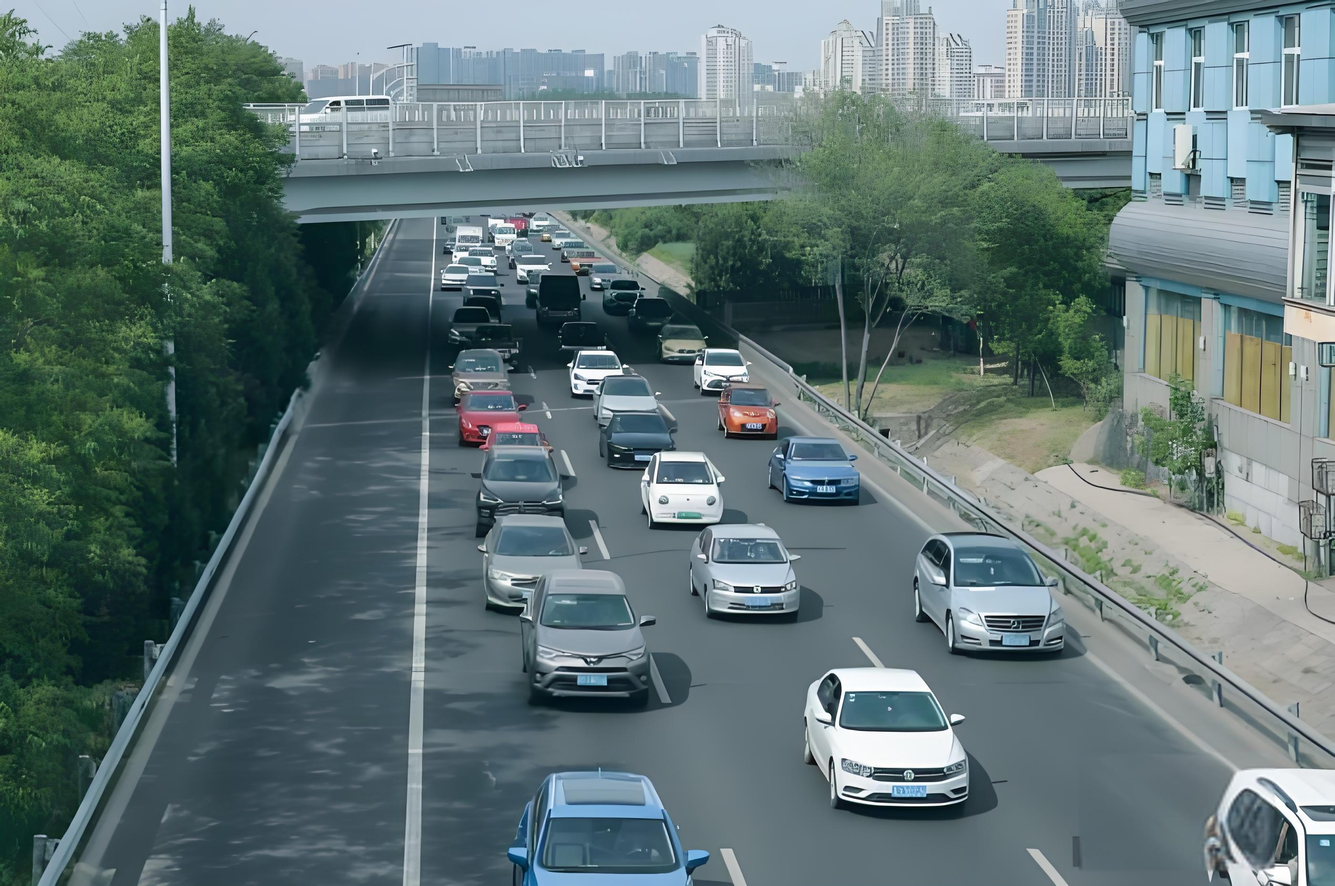car: (797, 664, 978, 810), (507, 765, 710, 886), (907, 519, 1076, 658), (517, 567, 659, 714), (1202, 763, 1334, 886), (687, 519, 806, 628), (477, 512, 588, 612), (469, 444, 572, 537), (766, 434, 863, 511), (639, 449, 726, 531), (597, 409, 678, 472), (454, 388, 528, 447), (714, 380, 782, 444), (590, 373, 663, 429), (447, 347, 512, 404), (478, 420, 554, 466), (691, 346, 755, 398), (565, 348, 630, 396), (534, 271, 587, 325), (655, 320, 710, 365), (470, 323, 520, 372), (446, 305, 492, 347), (460, 272, 505, 309), (604, 278, 646, 312), (513, 253, 553, 283), (587, 261, 624, 291)
